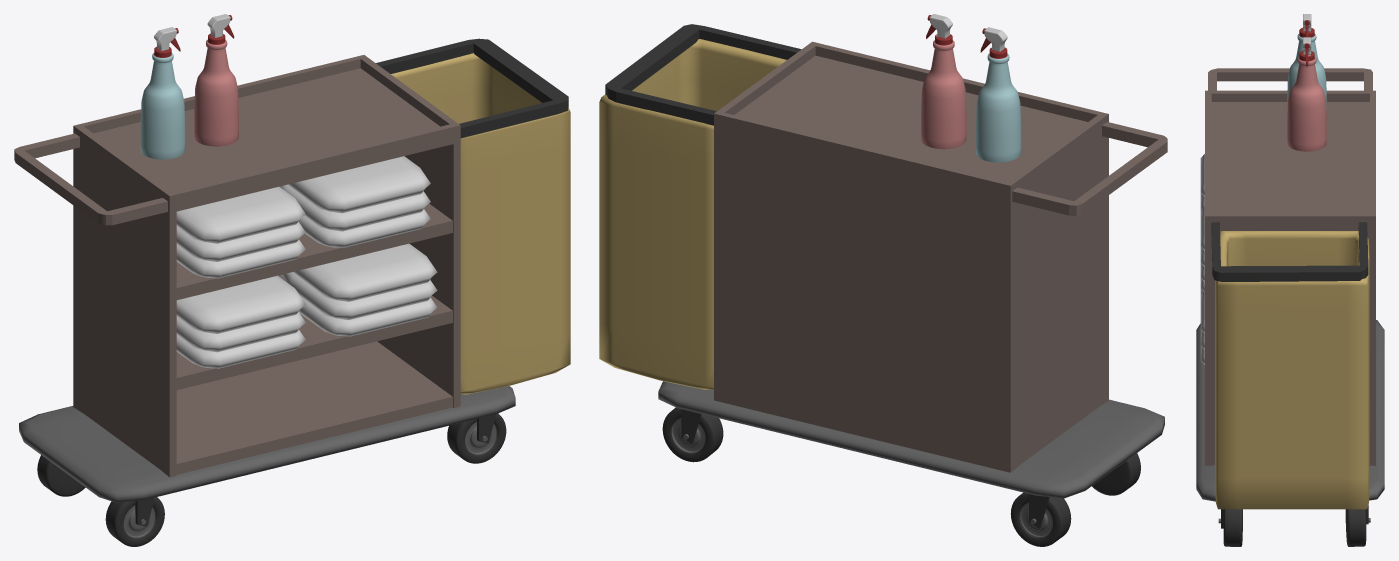
Rendered from maid_cart.fbx.
3 renders of one model, left to right at view 1: azimuth 30°, elevation 25°; view 2: azimuth 150°, elevation 25°; view 3: azimuth 270°, elevation 25°, orthographic. The views are drawn at different scales.
Visible parts, largest first — view 1: pCube31, pCube30, pCube29, pCube26, pCube28, pCube27, group5_pCube21, group6_pCylinder3, group7, group9, group8; view 2: pCube31, pCube30, group5_pCube21, group6_pCylinder3, group8, group10, group7; view 3: pCube30, pCube31, group6_pCylinder3, group5_pCube21, group10, group9, pCube26, pCube29, pCube27.
Part boxes in pixels (x1=…): pCube31: x1=14, y1=55, x2=515, y2=502; pCube30: x1=376, y1=38, x2=570, y2=394; pCube29: x1=281, y1=243, x2=437, y2=336; pCube26: x1=279, y1=156, x2=430, y2=247; pCube28: x1=176, y1=275, x2=305, y2=368; pCube27: x1=176, y1=186, x2=305, y2=278; group5_pCube21: x1=140, y1=27, x2=185, y2=159; group6_pCylinder3: x1=194, y1=14, x2=238, y2=146; group7: x1=105, y1=497, x2=164, y2=546; group9: x1=447, y1=413, x2=506, y2=463; group8: x1=37, y1=455, x2=85, y2=496; pCube31: x1=658, y1=41, x2=1167, y2=498; pCube30: x1=599, y1=24, x2=801, y2=389; group5_pCube21: x1=976, y1=27, x2=1021, y2=162; group6_pCylinder3: x1=921, y1=14, x2=966, y2=149; group8: x1=1010, y1=492, x2=1071, y2=546; group10: x1=662, y1=407, x2=723, y2=462; group7: x1=1092, y1=453, x2=1140, y2=495; pCube30: x1=1211, y1=222, x2=1369, y2=509; pCube31: x1=1196, y1=68, x2=1384, y2=501; group6_pCylinder3: x1=1287, y1=37, x2=1326, y2=151; group5_pCube21: x1=1287, y1=14, x2=1326, y2=112; group10: x1=1345, y1=505, x2=1370, y2=546; group9: x1=1218, y1=509, x2=1242, y2=546; pCube26: x1=1200, y1=208, x2=1204, y2=281; pCube29: x1=1200, y1=291, x2=1204, y2=364; pCube27: x1=1200, y1=154, x2=1204, y2=211.
Bounding box in the file's own units: 13.67 × 12.84 × 5.32.
